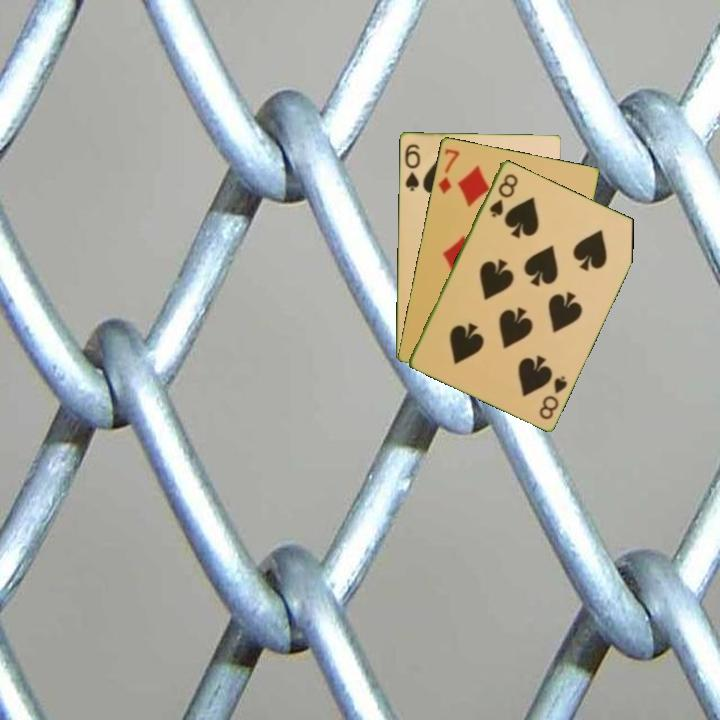6s: (401, 140, 422, 193)
7d: (435, 145, 462, 197)
8s: (486, 170, 521, 220), (535, 372, 570, 422)
